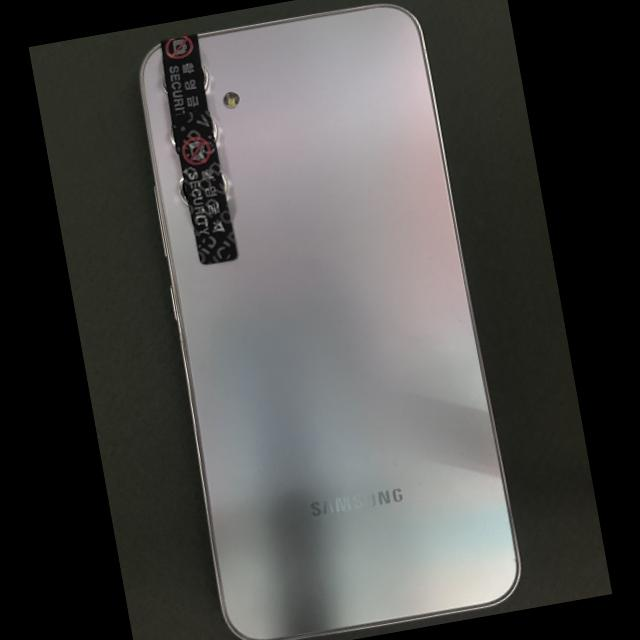lens: (179, 176, 187, 205), (201, 64, 209, 91), (210, 117, 218, 141)
phone: (138, 3, 520, 640)
sticker: (174, 110, 238, 264), (160, 33, 208, 153)
